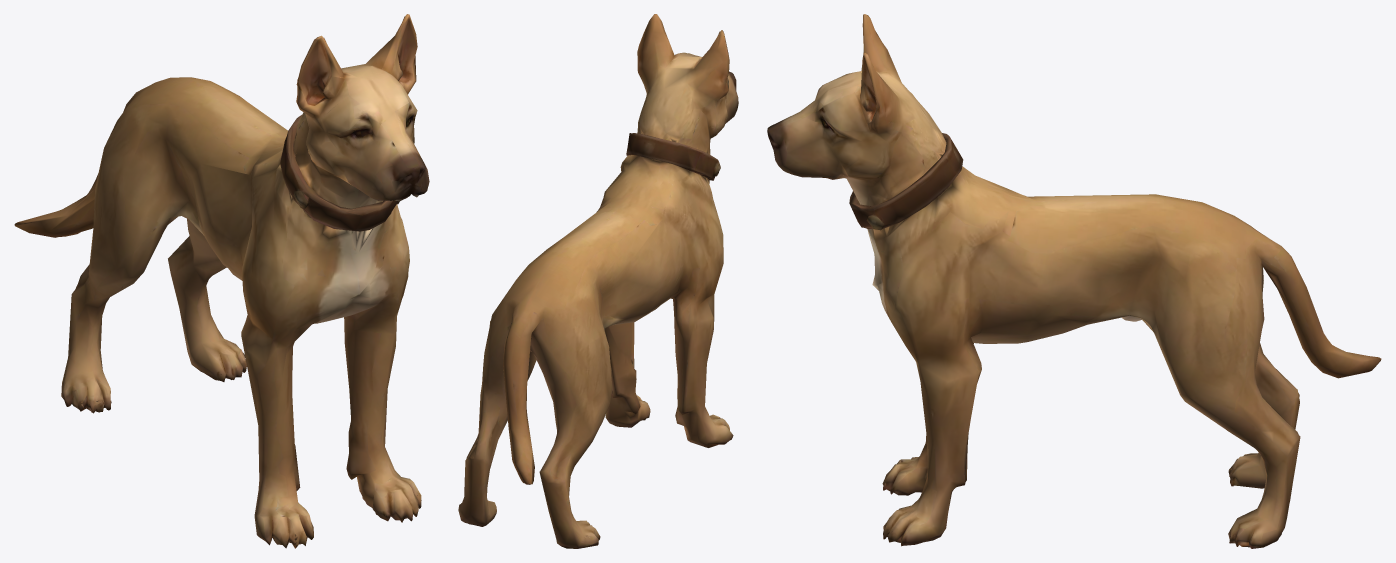
The model's file is animal_dog.glb.
3 views of the same model, side by side, from view 1: azimuth 30°, elevation 25°; view 2: azimuth 150°, elevation 25°; view 3: azimuth 270°, elevation 25° (orthographic). The views are drawn at different scales.
Visible parts, largest first — view 1: world; view 2: world; view 3: world.
Boxes of the visible parts, bbox=[...] form: world: bbox=[14, 14, 429, 548]; world: bbox=[458, 14, 738, 548]; world: bbox=[767, 14, 1381, 548].
Size of the model in its own units: 0.2913 by 0.7996 by 0.9267.
Materials: 1 (1 with a texture image).
